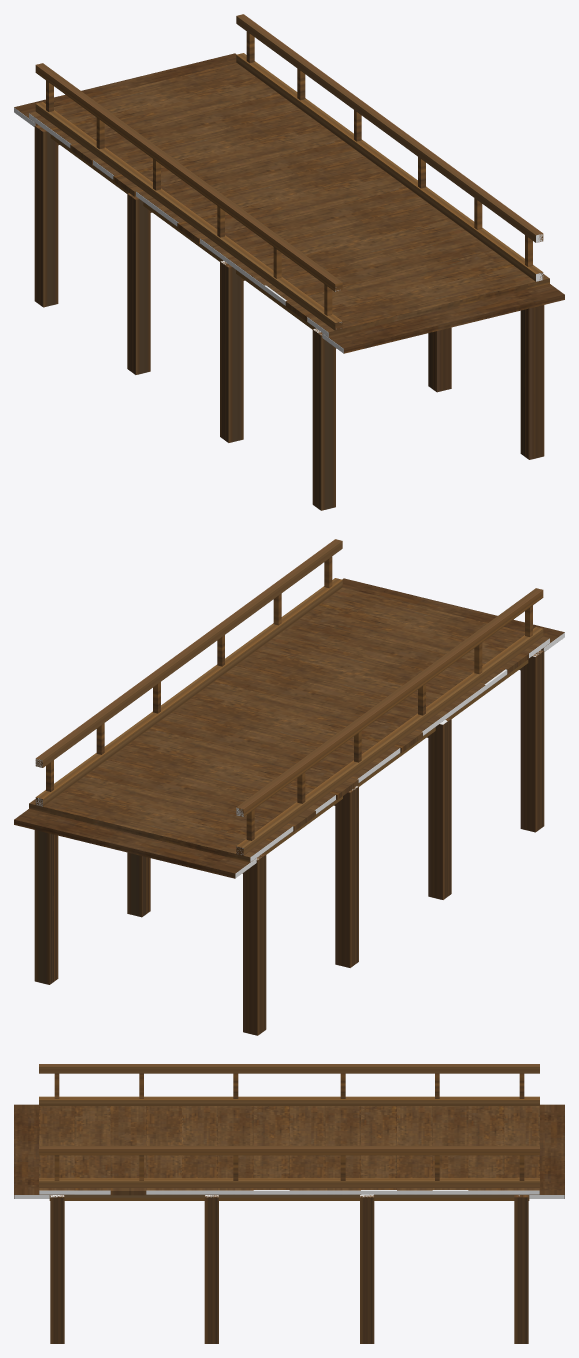
File: objects_un_bridge01_01.gltf
3 renders of one model, top to bottom at view 1: azimuth 30°, elevation 25°; view 2: azimuth 150°, elevation 25°; view 3: azimuth 270°, elevation 25°, orthographic. The views are drawn at different scales.
Parts seen in each view (by area): view 1: um_objects_un_bridge01_model_lod0Shape:objects_un_bridge01_p, um_objects_un_bridge01_model_lod0Shape:objects_un_bridge01_w, um_objects_un_bridge01_model_lod0Shape:objects_un_bridge01_s, um_objects_un_bridge01_model_lod1Shape:objects_un_bridge01_w; view 2: um_objects_un_bridge01_model_lod0Shape:objects_un_bridge01_p, um_objects_un_bridge01_model_lod0Shape:objects_un_bridge01_w, um_objects_un_bridge01_model_lod1Shape:objects_un_bridge01_w, um_objects_un_bridge01_model_lod0Shape:objects_un_bridge01_s; view 3: um_objects_un_bridge01_model_lod0Shape:objects_un_bridge01_p, um_objects_un_bridge01_model_lod0Shape:objects_un_bridge01_w, um_objects_un_bridge01_model_lod0Shape:objects_un_bridge01_s.
Part boxes in pixels (box(x1,y1,x2,y2)): um_objects_un_bridge01_model_lod0Shape:objects_un_bridge01_p: box(14, 53, 564, 353); um_objects_un_bridge01_model_lod0Shape:objects_un_bridge01_w: box(34, 14, 544, 510); um_objects_un_bridge01_model_lod0Shape:objects_un_bridge01_s: box(14, 107, 543, 353); um_objects_un_bridge01_model_lod1Shape:objects_un_bridge01_w: box(54, 15, 542, 328); um_objects_un_bridge01_model_lod0Shape:objects_un_bridge01_p: box(14, 578, 564, 878); um_objects_un_bridge01_model_lod0Shape:objects_un_bridge01_w: box(34, 539, 544, 1035); um_objects_un_bridge01_model_lod1Shape:objects_un_bridge01_w: box(35, 696, 327, 984); um_objects_un_bridge01_model_lod0Shape:objects_un_bridge01_s: box(35, 632, 564, 878); um_objects_un_bridge01_model_lod0Shape:objects_un_bridge01_p: box(14, 1104, 564, 1198); um_objects_un_bridge01_model_lod0Shape:objects_un_bridge01_w: box(39, 1064, 539, 1343); um_objects_un_bridge01_model_lod0Shape:objects_un_bridge01_s: box(14, 1190, 564, 1198).
Size of what is drawn, in the model's own units: 4.53 by 4.44 by 11.55.
3 materials, 2 textured.
